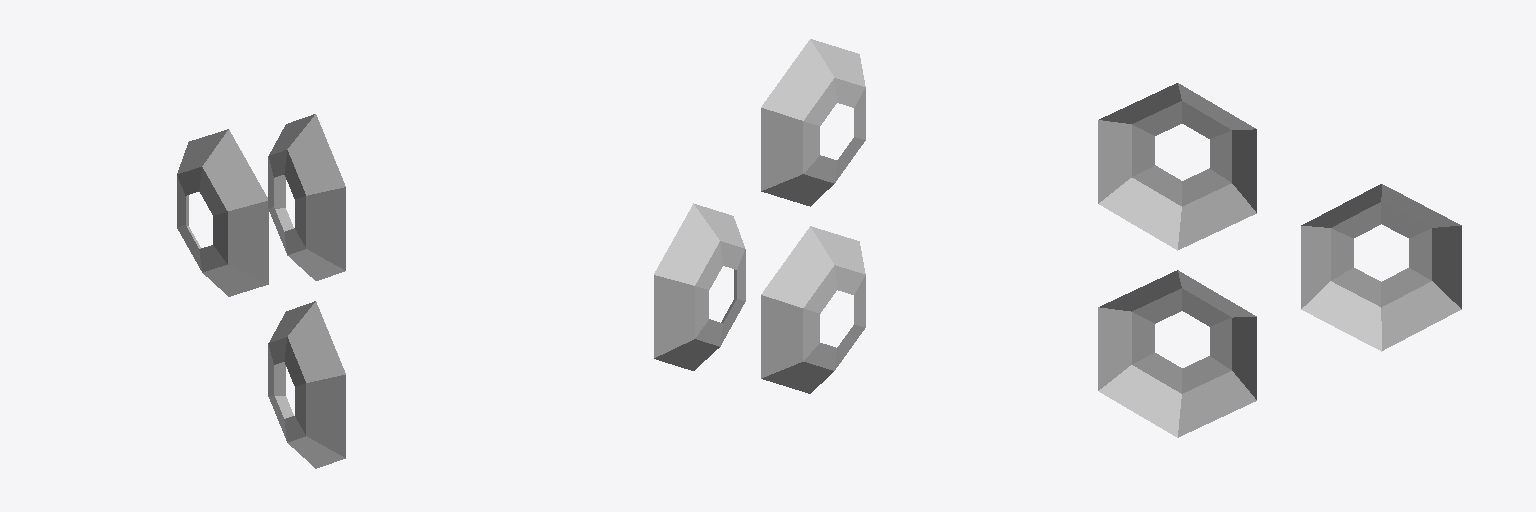
File: engmount.obj
3 views of the same model, side by side, from view 1: azimuth 30°, elevation 25°; view 2: azimuth 150°, elevation 25°; view 3: azimuth 270°, elevation 25° (orthographic).
Parts seen in each view (by area): view 1: engmount; view 2: engmount; view 3: engmount.
Part boxes in pixels (left/top/right/bottom): engmount: left=177, top=114, right=345, bottom=468; engmount: left=654, top=39, right=865, bottom=393; engmount: left=1098, top=83, right=1461, bottom=437.
Size of the model in its own units: 0.0299 by 0.2135 by 0.198.